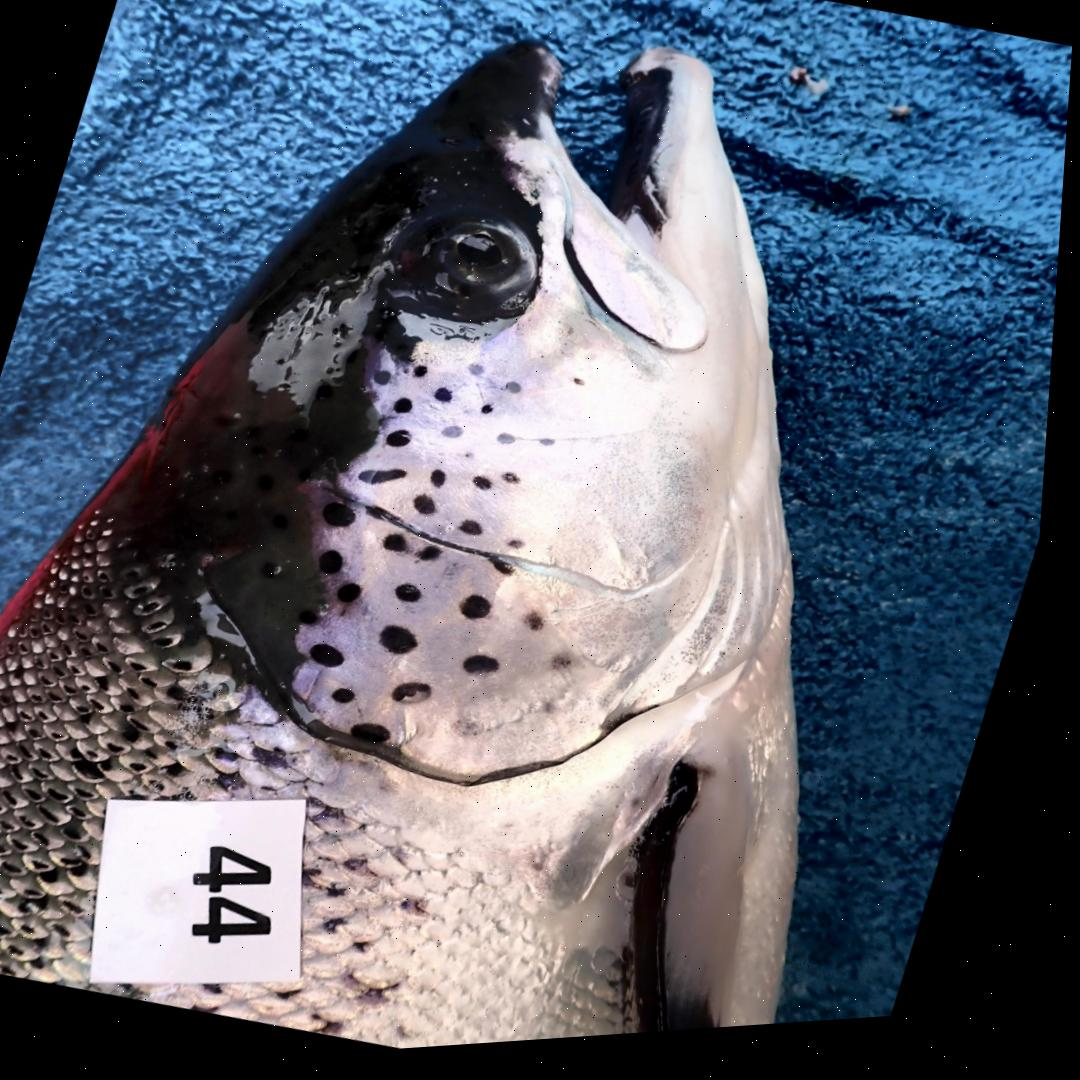spot: (369, 510, 416, 535), (387, 631, 427, 660), (328, 506, 363, 533), (400, 688, 441, 711), (318, 648, 353, 673), (360, 729, 400, 749), (468, 601, 500, 626), (471, 661, 508, 682), (364, 474, 412, 490), (325, 555, 351, 579), (402, 590, 429, 609), (344, 588, 369, 608), (390, 539, 414, 559), (496, 565, 522, 583), (391, 435, 417, 453), (420, 501, 443, 521), (467, 726, 494, 743), (559, 662, 583, 680), (339, 692, 364, 709), (466, 526, 490, 542), (533, 620, 552, 639), (425, 552, 448, 567), (398, 403, 418, 420), (439, 393, 458, 410), (307, 614, 327, 630), (447, 431, 469, 445), (436, 476, 453, 493), (480, 482, 498, 498), (377, 376, 396, 390), (416, 370, 433, 384), (472, 370, 490, 383), (503, 440, 522, 452), (509, 479, 526, 492), (509, 388, 526, 401), (542, 445, 561, 455), (515, 547, 530, 557), (578, 385, 590, 395), (487, 412, 498, 421), (470, 459, 479, 465)
